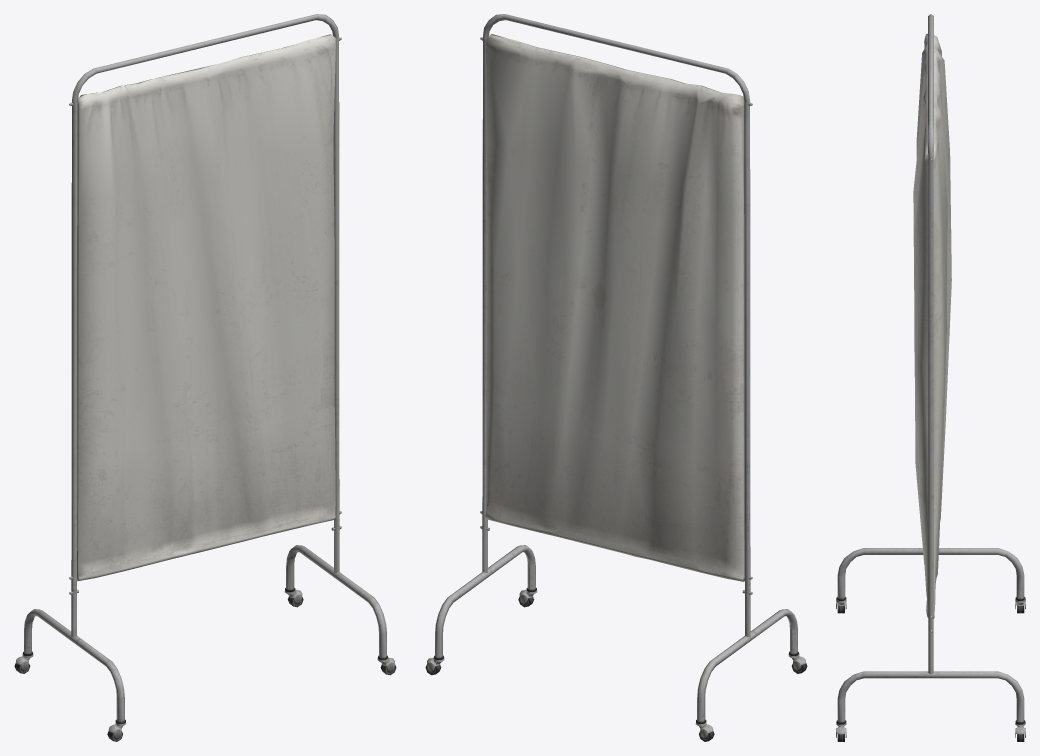
File: panelscreen01a.fbx
3 renders of one model, left to right at view 1: azimuth 30°, elevation 25°; view 2: azimuth 150°, elevation 25°; view 3: azimuth 270°, elevation 25°, orthographic. The views are drawn at different scales.
Visible parts, largest first — view 1: panelscreen01a; view 2: panelscreen01a; view 3: panelscreen01a.
Boxes of the visible parts, x1,y1,x2,y2 form: panelscreen01a: (14, 14, 396, 741); panelscreen01a: (425, 14, 807, 741); panelscreen01a: (836, 14, 1025, 741).
Size of the model in its own units: 93.68 by 198 by 55.81.
Materials: 1 (1 with a texture image).
